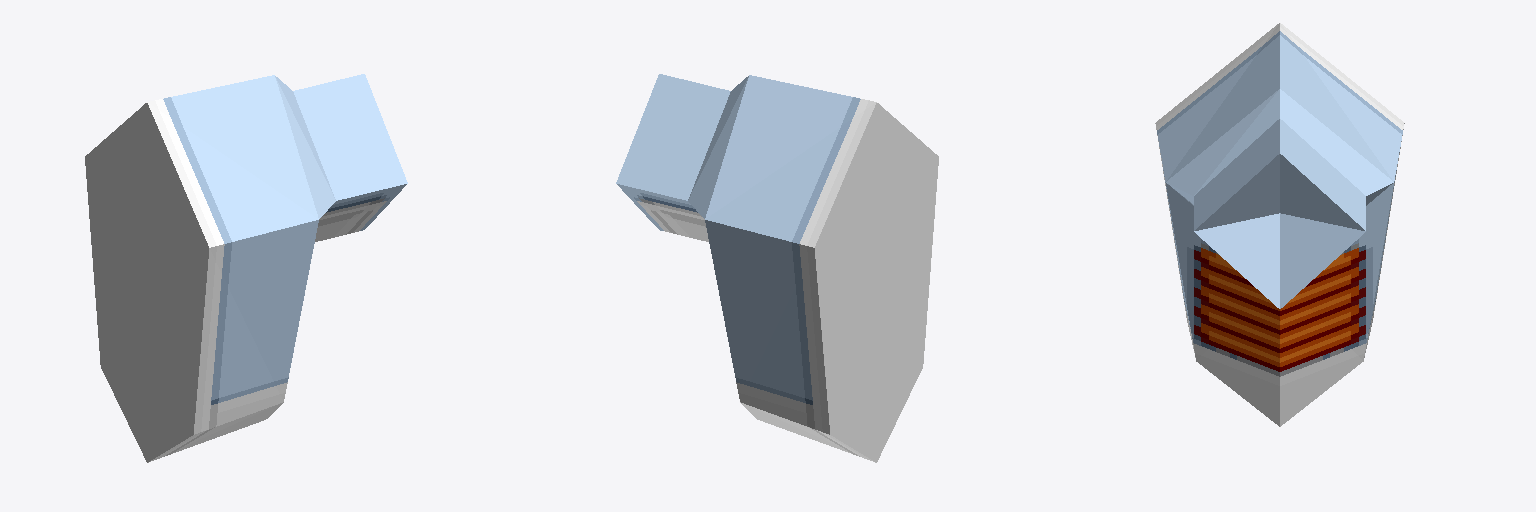
3 views of the same model, side by side, from view 1: azimuth 30°, elevation 25°; view 2: azimuth 150°, elevation 25°; view 3: azimuth 270°, elevation 25° (orthographic).
Parts seen in each view (by area): view 1: Foot; view 2: Foot; view 3: Foot.
Part boxes in pixels (x1,y1,x2,y2): Foot: (85, 74, 407, 462); Foot: (616, 74, 938, 462); Foot: (1155, 23, 1404, 426).
Size of the model in its own units: 2.61 by 4.13 by 2.59.
Materials: 1 (1 with a texture image).